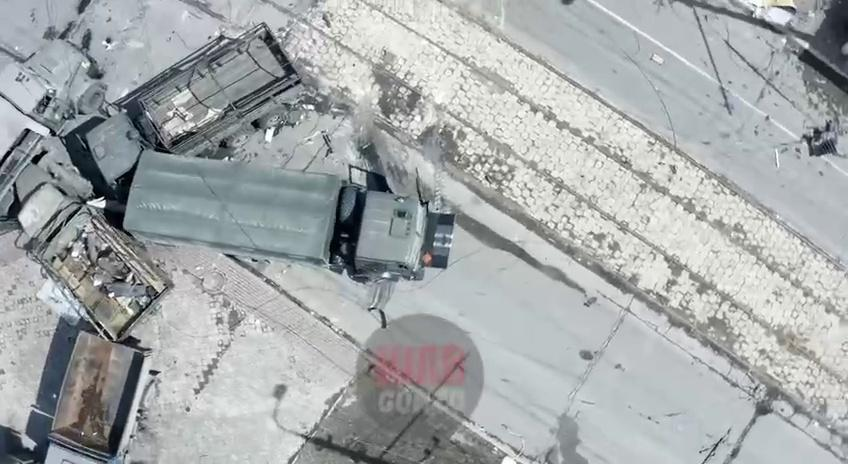truck: (123, 150, 455, 312), (84, 22, 307, 192), (12, 162, 175, 344), (0, 37, 107, 209)
